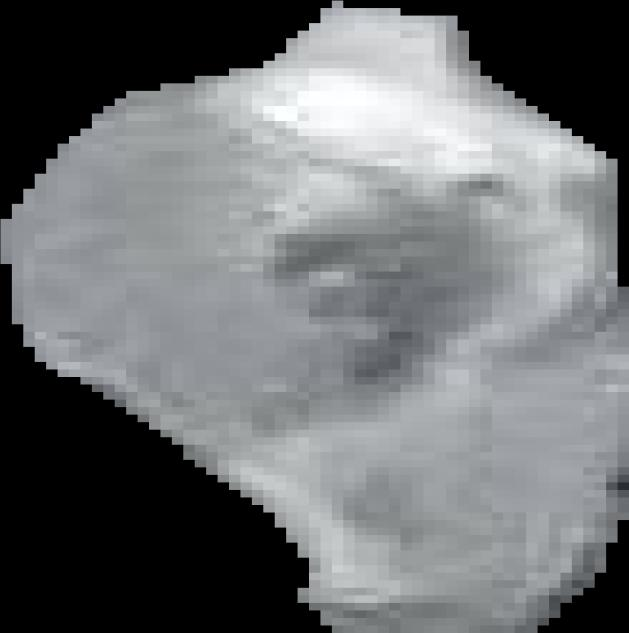tumor_moderate_chance: (0, 1, 629, 633)
